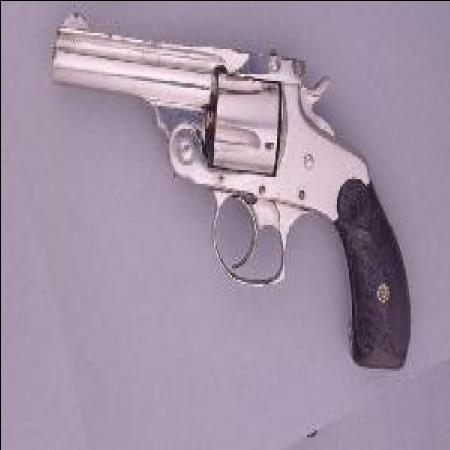Pistol: (51, 9, 414, 368)
